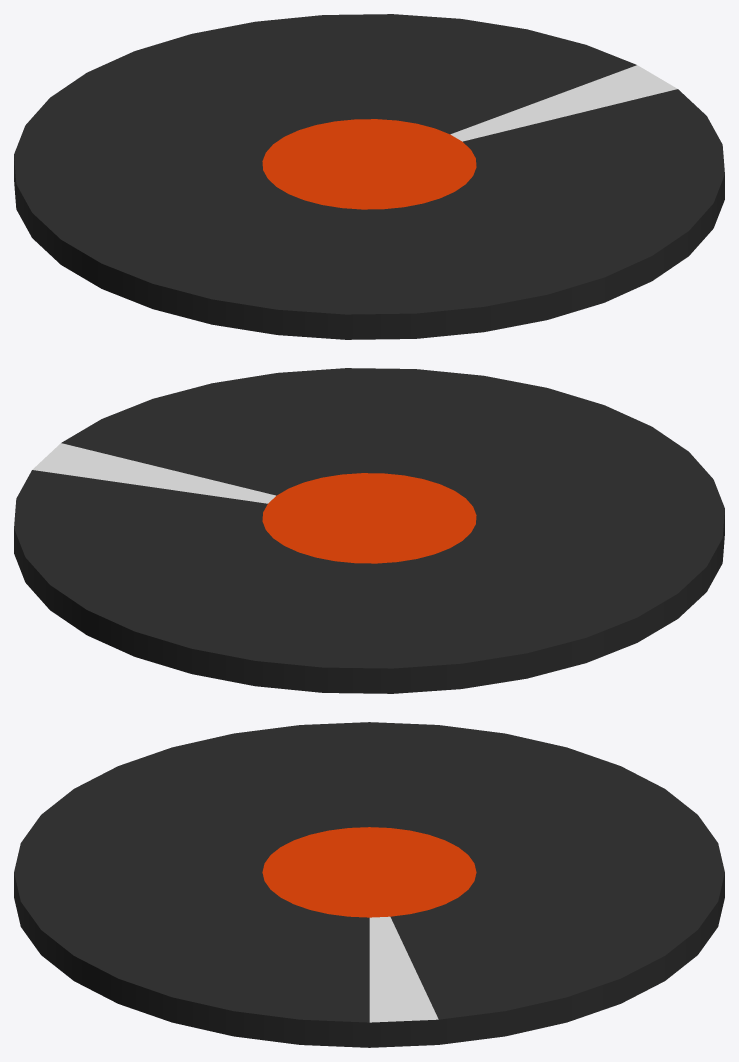
The model's file is Vinilo_simple.fbx.
The picture shows the model from 3 angles, top to bottom: view 1: azimuth 30°, elevation 25°; view 2: azimuth 150°, elevation 25°; view 3: azimuth 270°, elevation 25°; orthographic projection.
Parts seen in each view (by area): view 1: Disc; view 2: Disc; view 3: Disc.
Boxes of the visible parts, bbox=[...] form: Disc: bbox=[14, 14, 724, 339]; Disc: bbox=[14, 368, 724, 693]; Disc: bbox=[14, 722, 724, 1047].
Size of the model in its own units: 200 by 7.85 by 200.
